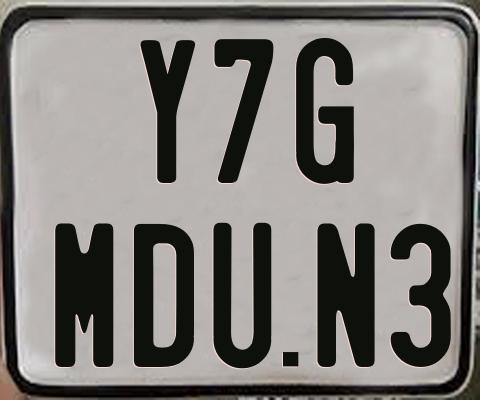3: (389, 222, 449, 371)
7: (214, 39, 276, 184)
D: (132, 221, 198, 365)
G: (294, 37, 352, 185)
M: (53, 220, 113, 367)
N: (315, 221, 377, 371)
U: (210, 222, 270, 371)
Y: (138, 40, 199, 184)
